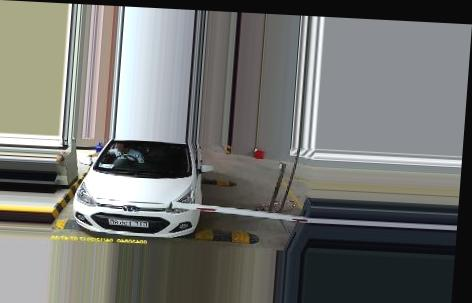License_Plate: (108, 217, 148, 229)
